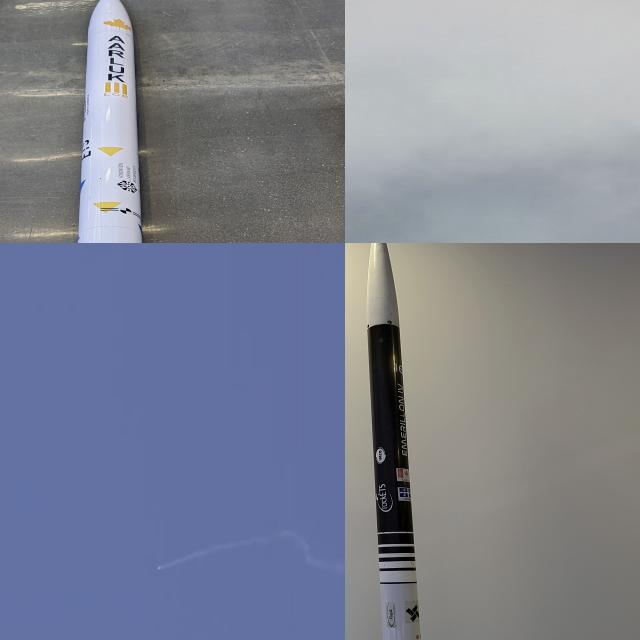Rocket: (367, 243, 421, 640), (76, 0, 143, 243), (158, 567, 160, 569)
